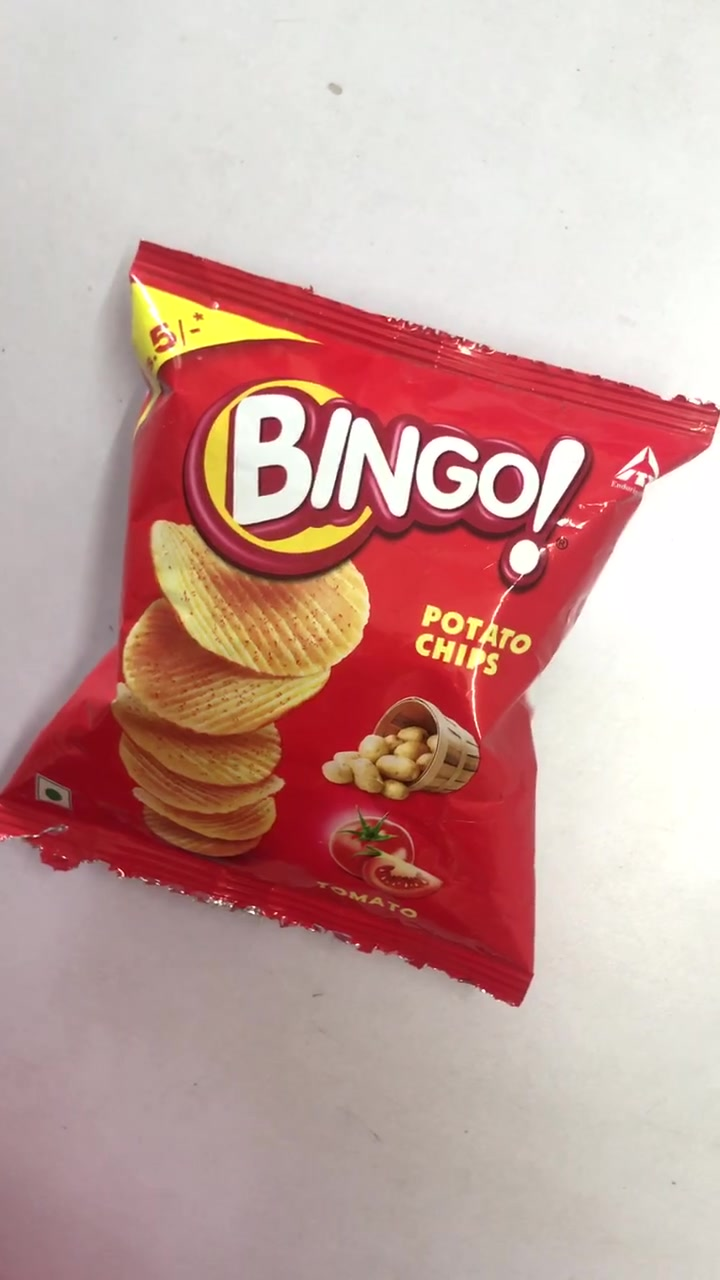Bingo: (9, 246, 716, 1002)
